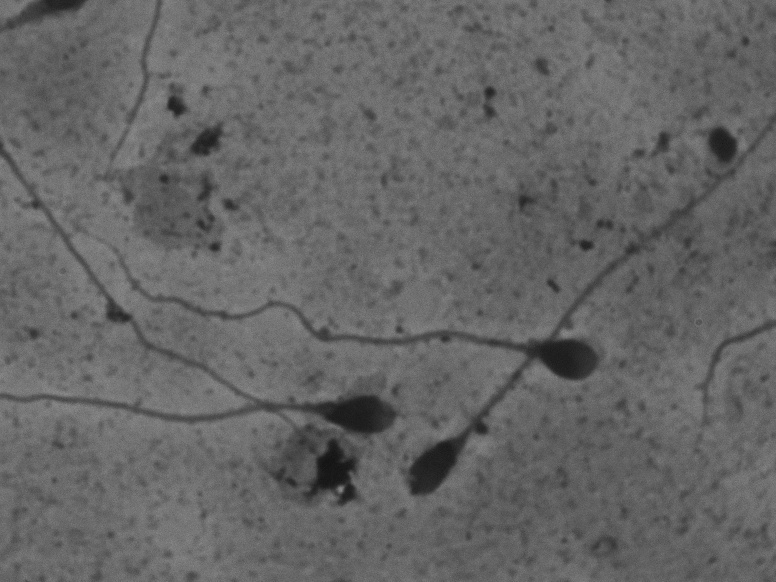Abnormal: (374, 119, 764, 505), (10, 361, 411, 450)
Normal: (70, 216, 627, 391)
